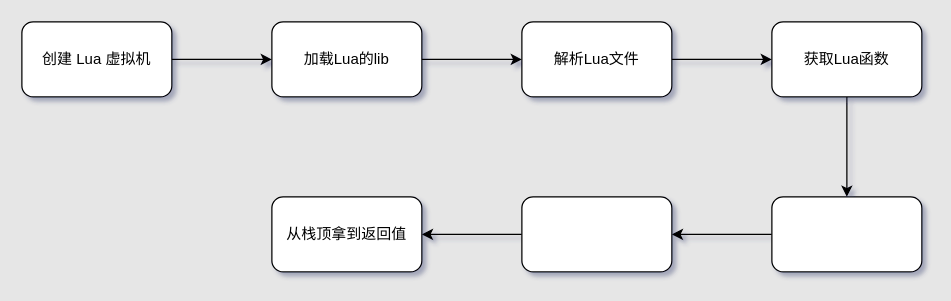
Some shapes in this 951 by 301 pixel diagram are drawn without their labels. The centre of each missing label's shape, as x and y in pixels:
压入参数: the point at 846,234
执行pcall: the point at 596,234
